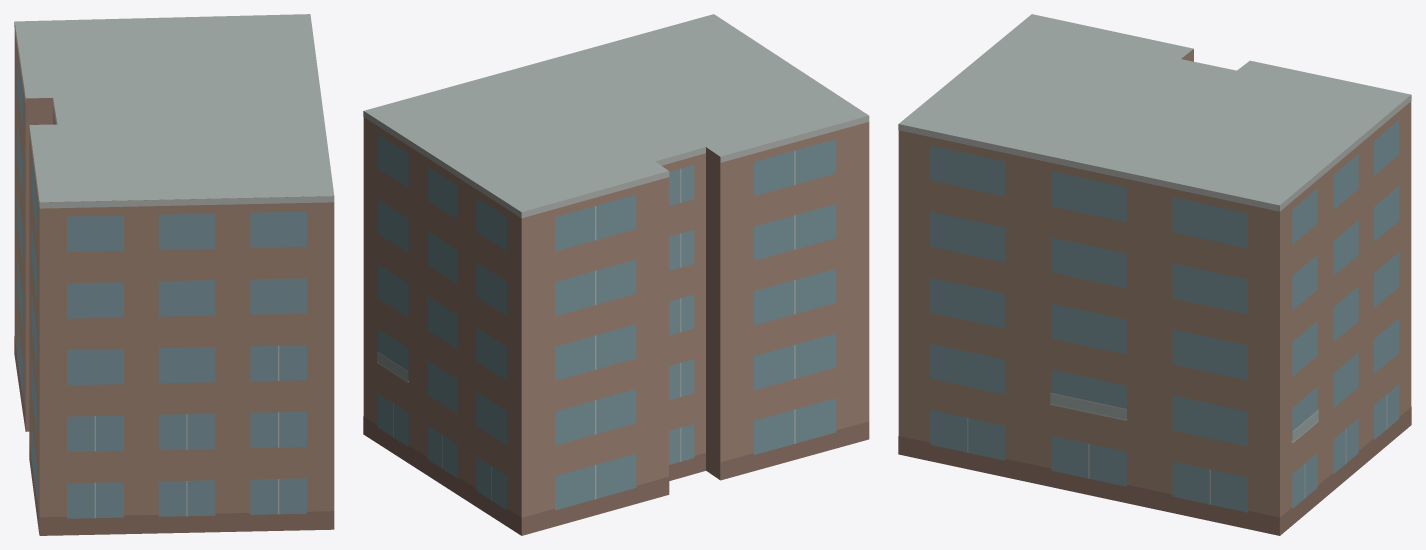
File: survey-upis-32894303.glb
3 views of the same model, side by side, from view 1: azimuth 30°, elevation 25°; view 2: azimuth 150°, elevation 25°; view 3: azimuth 270°, elevation 25° (orthographic). The views are drawn at different scales.
Visible parts, largest first — view 1: survey-upis-32894303.tmp; view 2: survey-upis-32894303.tmp; view 3: survey-upis-32894303.tmp.
Boxes of the visible parts, x1,y1,x2,y2 form: survey-upis-32894303.tmp: (14, 14, 334, 535); survey-upis-32894303.tmp: (363, 14, 869, 535); survey-upis-32894303.tmp: (898, 14, 1411, 535).
Size of the model in its own units: 16.17 by 13 by 18.3.
